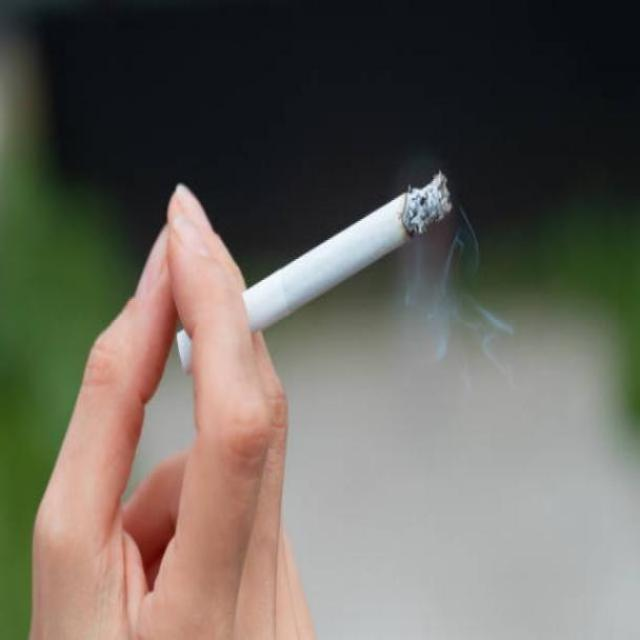rokok: (176, 166, 454, 370)
